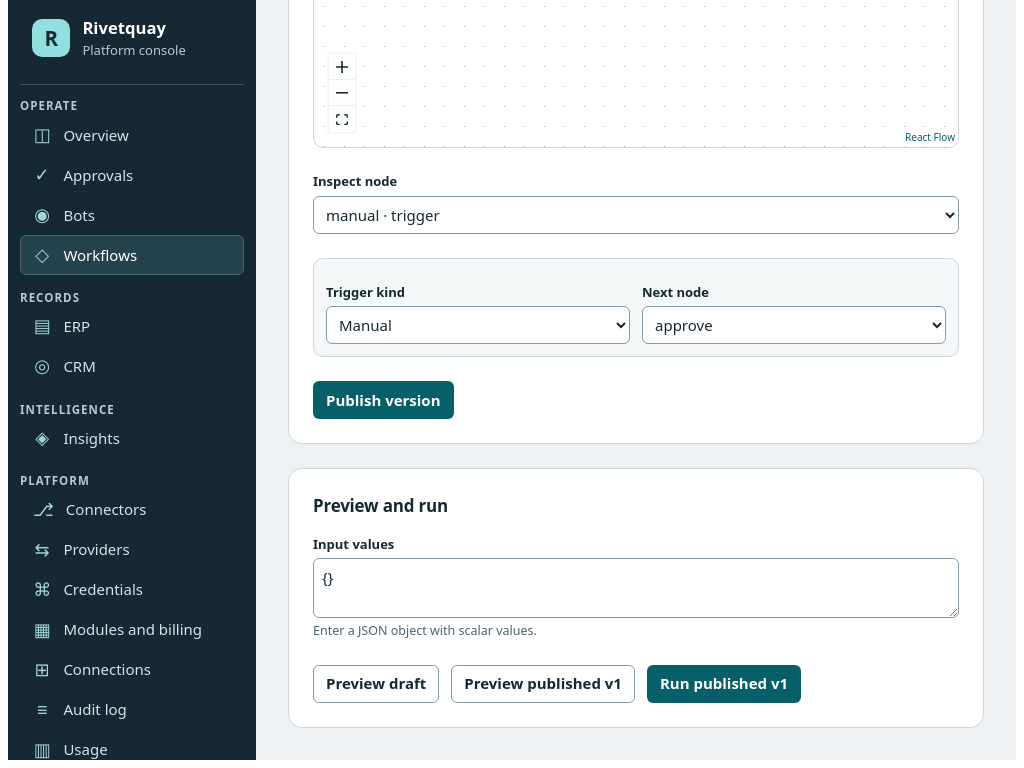
Test: previews win-back messages without starting a run, then runs and reviews the timeline
Later steps or results of the test are not shown.
(page scrolled)
Click the button "Preview published v1" at (543, 684), box [451,665,635,703]
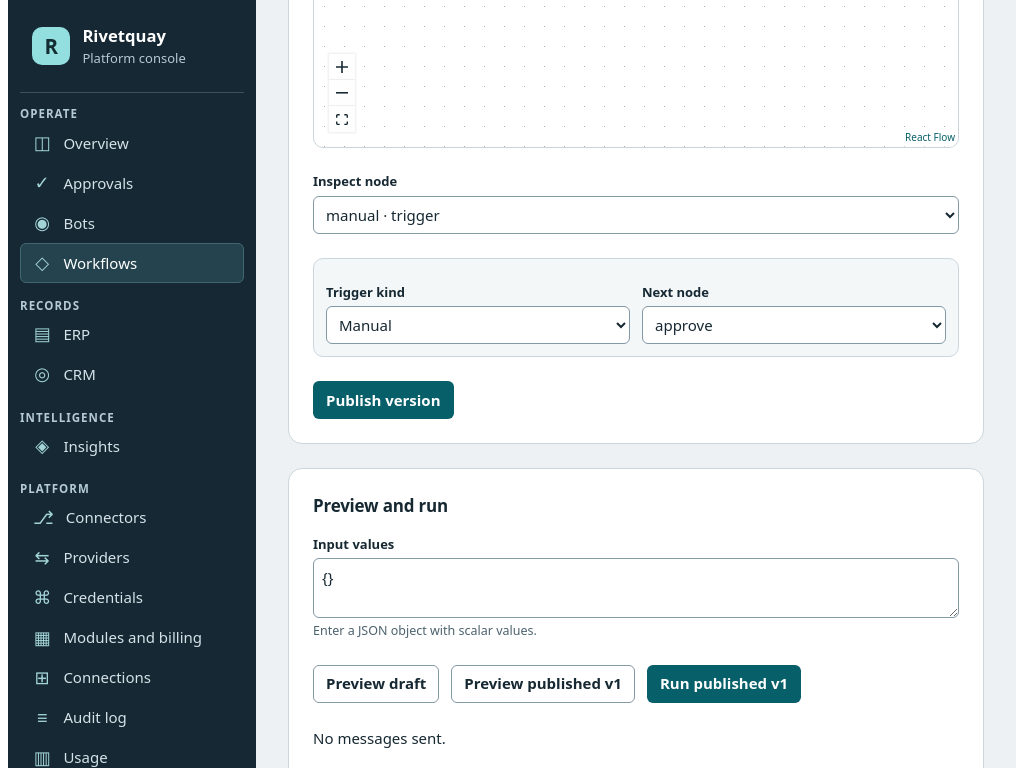
Expected: the text "No messages sent." is shown, [313,728,446,748]
